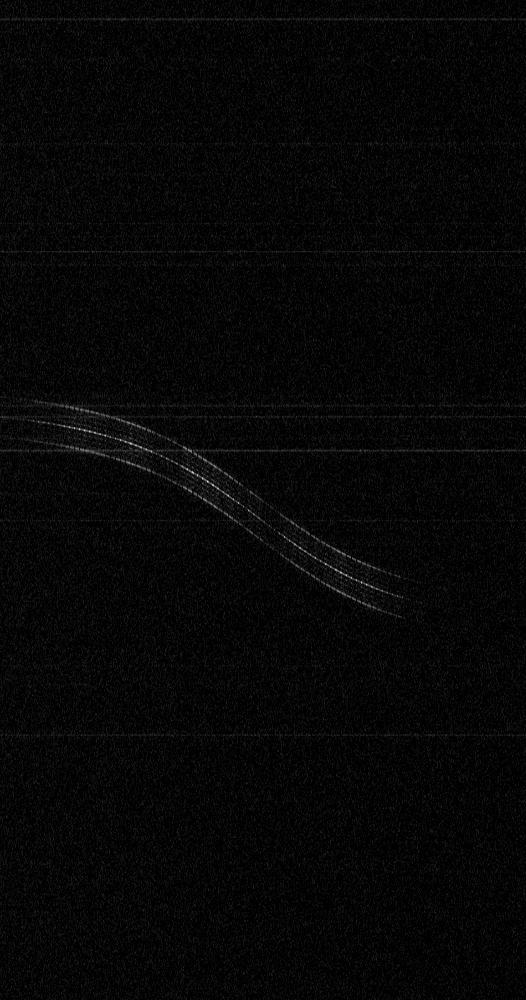signal: (0, 0, 525, 999)
